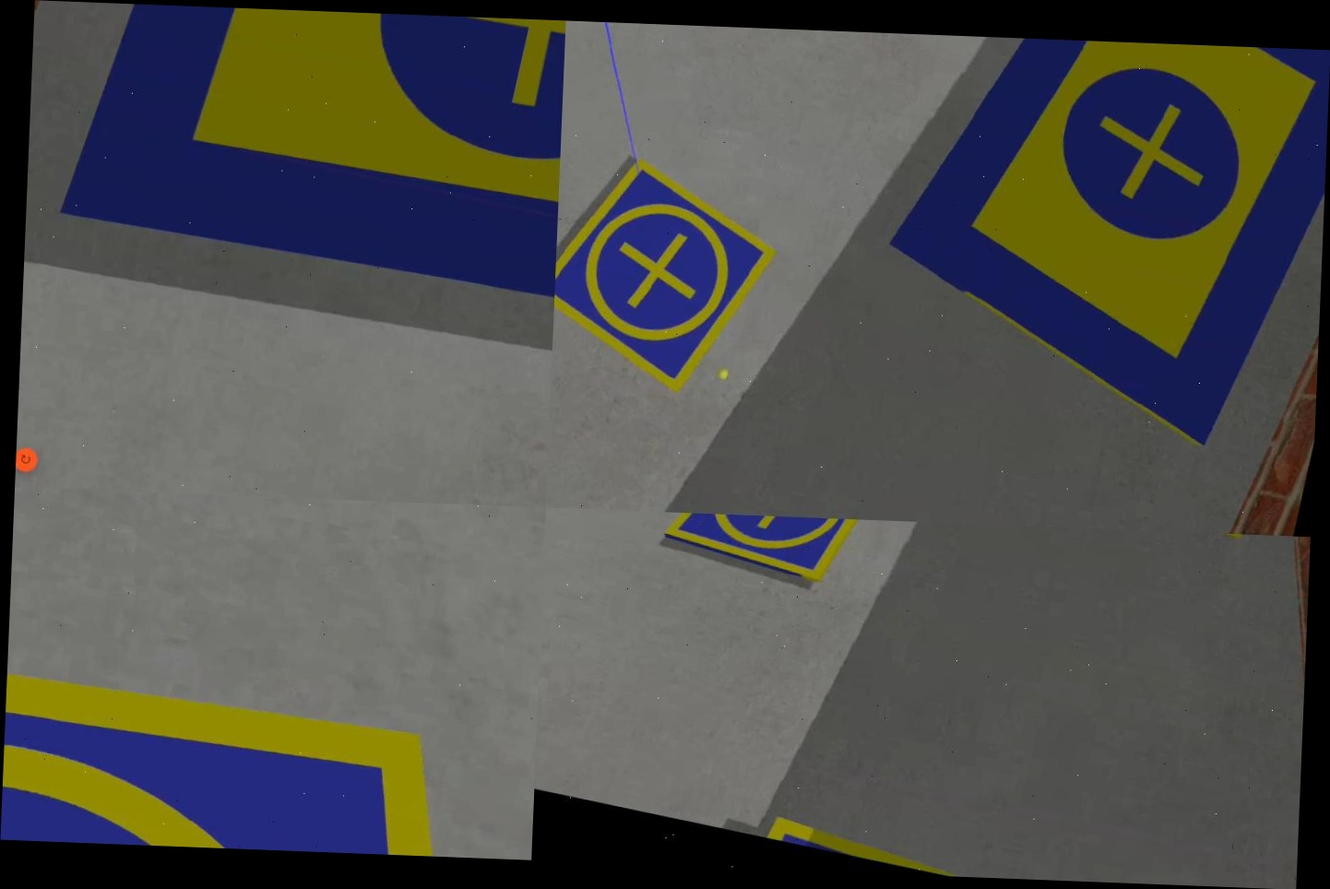large_base: (852, 32, 1330, 464), (55, 2, 565, 377)
small_base: (0, 559, 543, 859), (551, 145, 791, 406), (657, 512, 887, 597)
